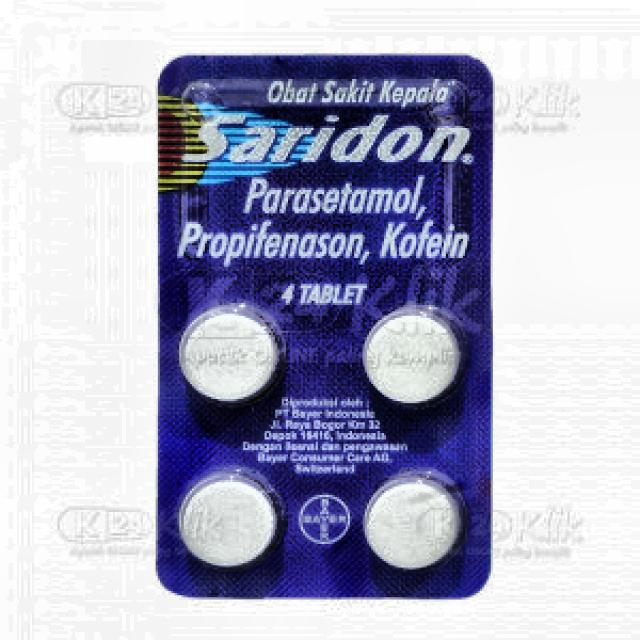Saridon: (159, 61, 498, 588)
